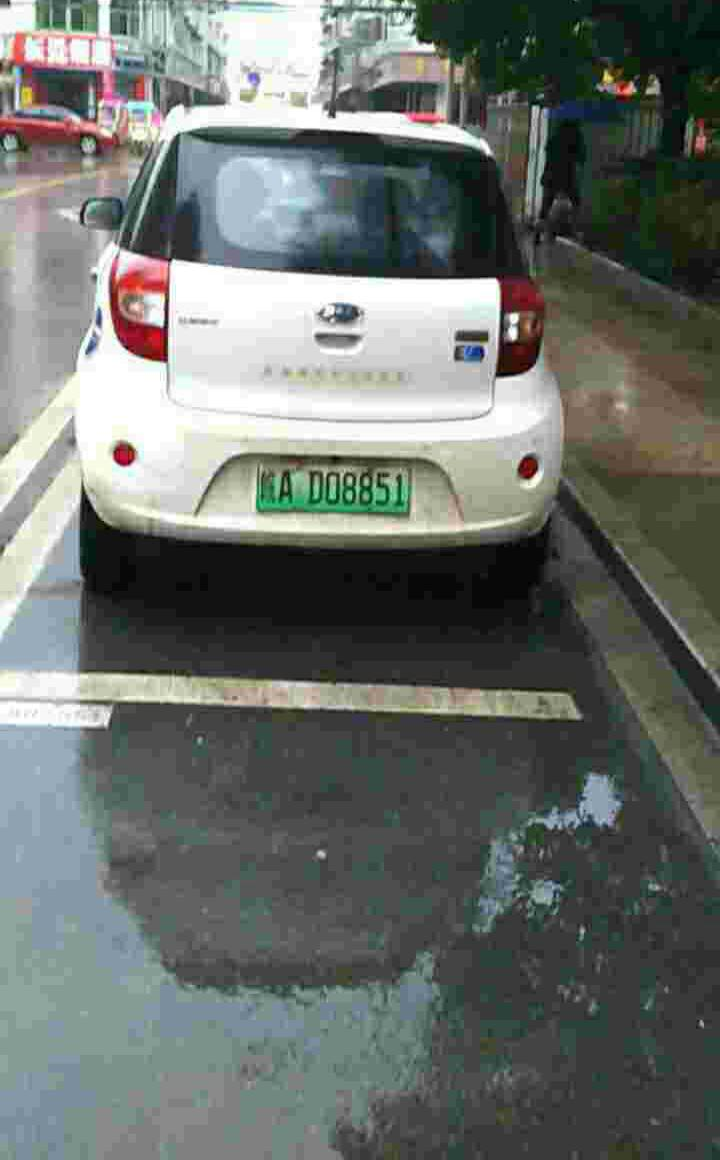car_id: (256, 462, 410, 512)
